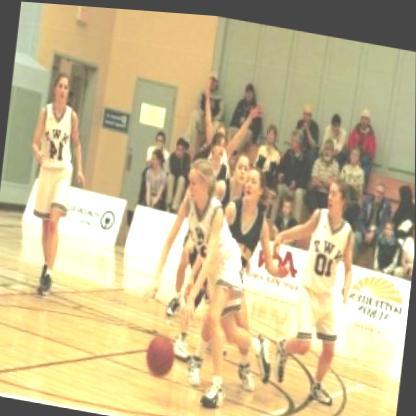basketball: (140, 322, 182, 379)
